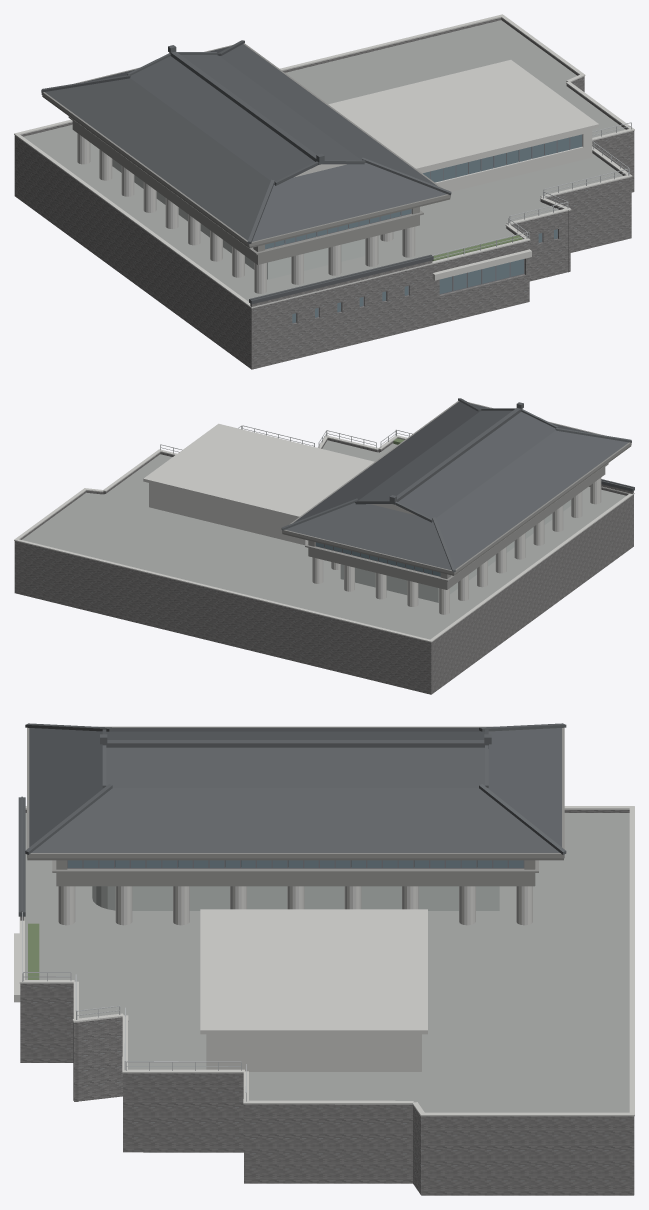
3 views of the same model, one above another, from view 1: azimuth 30°, elevation 25°; view 2: azimuth 150°, elevation 25°; view 3: azimuth 270°, elevation 25° (orthographic). The views are drawn at different scales.
Parts seen in each view (by area): view 1: kyujanggak__brick, kyujanggak__tile, kyujanggak__concrete, kyujanggak__deck, kyujanggak__band, kyujanggak__glass, kyujanggak__ridge, kyujanggak__block, kyujanggak__rail, kyujanggak__soffit, kyujanggak__frame, kyujanggak__planter; view 2: kyujanggak__brick, kyujanggak__tile, kyujanggak__deck, kyujanggak__concrete, kyujanggak__band, kyujanggak__ridge, kyujanggak__block, kyujanggak__soffit, kyujanggak__rail, kyujanggak__glass; view 3: kyujanggak__deck, kyujanggak__tile, kyujanggak__brick, kyujanggak__concrete, kyujanggak__band, kyujanggak__block, kyujanggak__ridge, kyujanggak__glass, kyujanggak__soffit, kyujanggak__rail, kyujanggak__frame, kyujanggak__planter.
Boxes of the visible parts, x1,y1,x2,y2 form: kyujanggak__brick: [14, 18, 634, 369]; kyujanggak__tile: [45, 44, 446, 304]; kyujanggak__concrete: [14, 14, 634, 308]; kyujanggak__deck: [23, 20, 625, 301]; kyujanggak__band: [41, 43, 450, 264]; kyujanggak__glass: [265, 134, 581, 322]; kyujanggak__ridge: [41, 40, 451, 299]; kyujanggak__block: [112, 159, 365, 279]; kyujanggak__rail: [432, 122, 631, 258]; kyujanggak__soffit: [42, 95, 450, 248]; kyujanggak__frame: [265, 134, 582, 323]; kyujanggak__planter: [432, 235, 522, 261]; kyujanggak__brick: [14, 438, 633, 694]; kyujanggak__tile: [285, 401, 634, 570]; kyujanggak__deck: [22, 440, 626, 639]; kyujanggak__concrete: [14, 423, 634, 642]; kyujanggak__band: [282, 400, 631, 589]; kyujanggak__ridge: [281, 398, 633, 572]; kyujanggak__block: [340, 499, 571, 602]; kyujanggak__soffit: [282, 445, 631, 575]; kyujanggak__rail: [160, 425, 412, 453]; kyujanggak__glass: [316, 542, 440, 576]; kyujanggak__deck: [25, 813, 629, 1112]; kyujanggak__tile: [18, 727, 561, 916]; kyujanggak__brick: [20, 810, 634, 1195]; kyujanggak__concrete: [14, 806, 634, 1116]; kyujanggak__band: [27, 726, 564, 886]; kyujanggak__block: [92, 886, 499, 910]; kyujanggak__ridge: [21, 723, 566, 911]; kyujanggak__glass: [68, 860, 523, 867]; kyujanggak__soffit: [27, 858, 563, 860]; kyujanggak__rail: [22, 911, 246, 1101]; kyujanggak__frame: [67, 860, 524, 868]; kyujanggak__planter: [28, 923, 39, 979].
Bounding box in the file's own units: 69.65 × 22.6 × 59.13.
13 materials, 1 textured.
